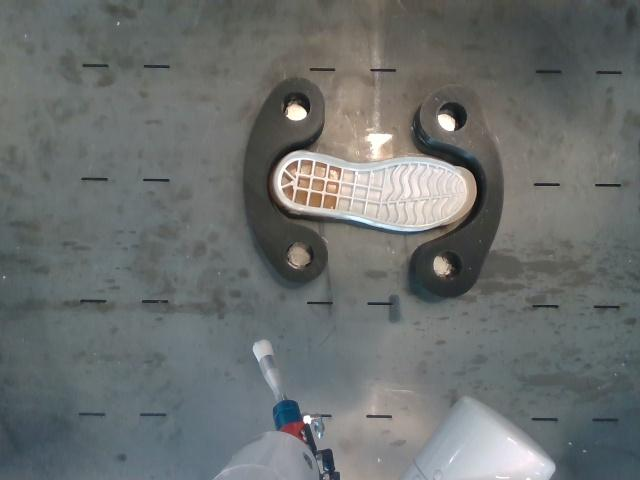shoes: (275, 152, 476, 228)
